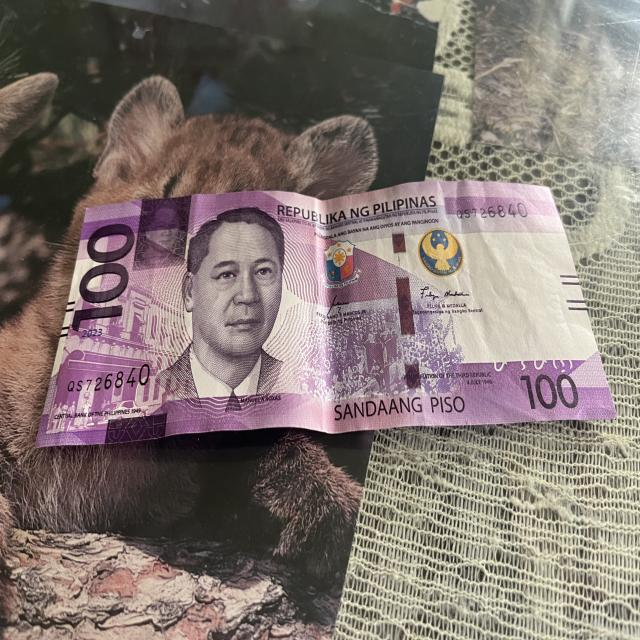concealed_value: (131, 194, 192, 263)
security_thread: (389, 190, 426, 402)
see_through_mark: (485, 340, 585, 378)
serial_number: (61, 359, 154, 400), (441, 194, 534, 226)
value: (73, 223, 137, 327)
value_watermark: (544, 287, 570, 334)
watermark: (445, 230, 568, 360)
